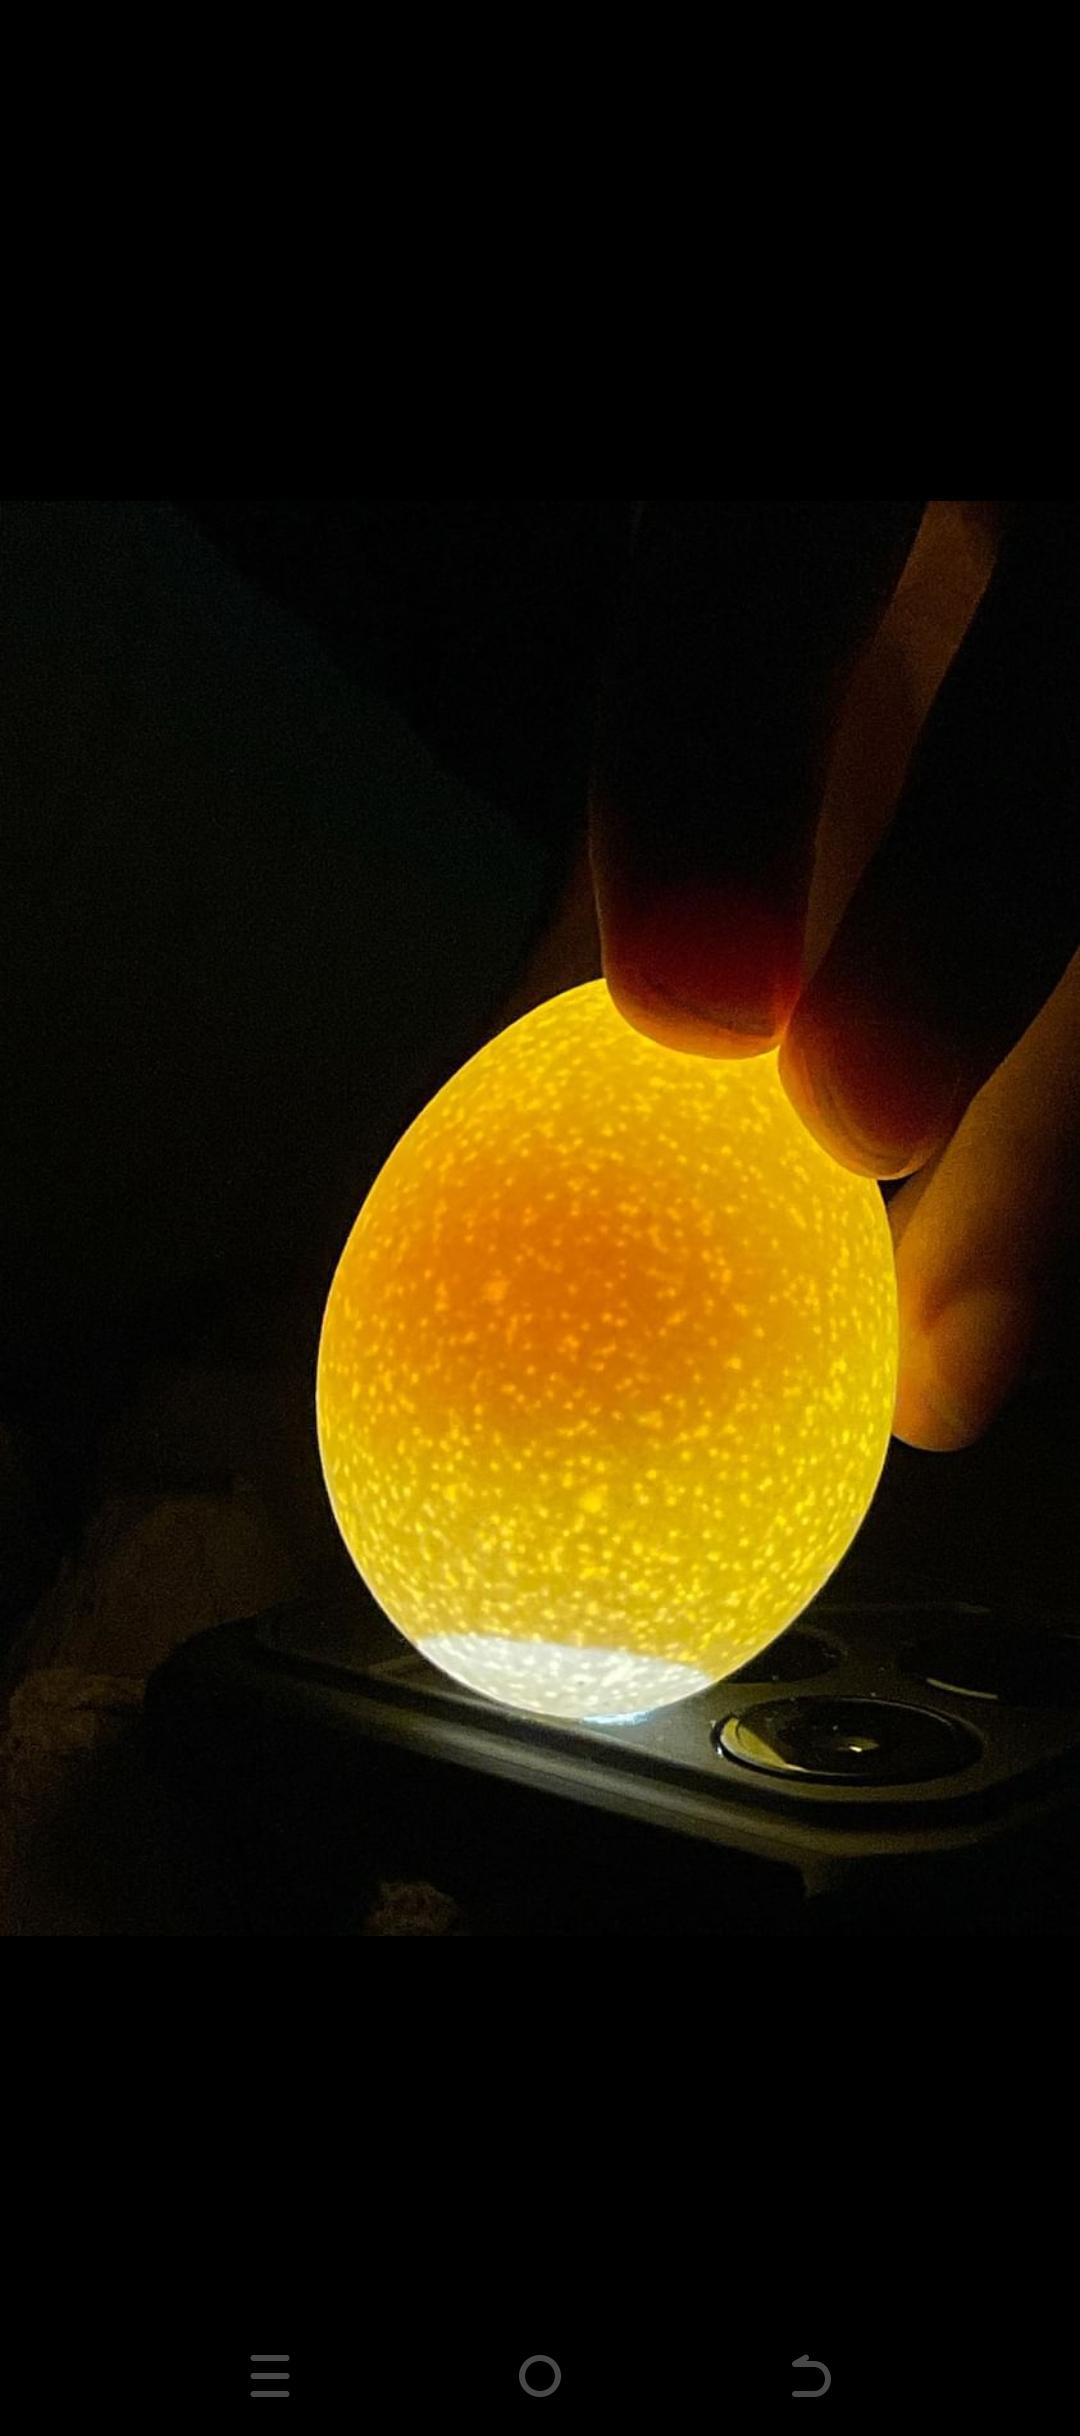A - Good: (306, 943, 914, 1787)
